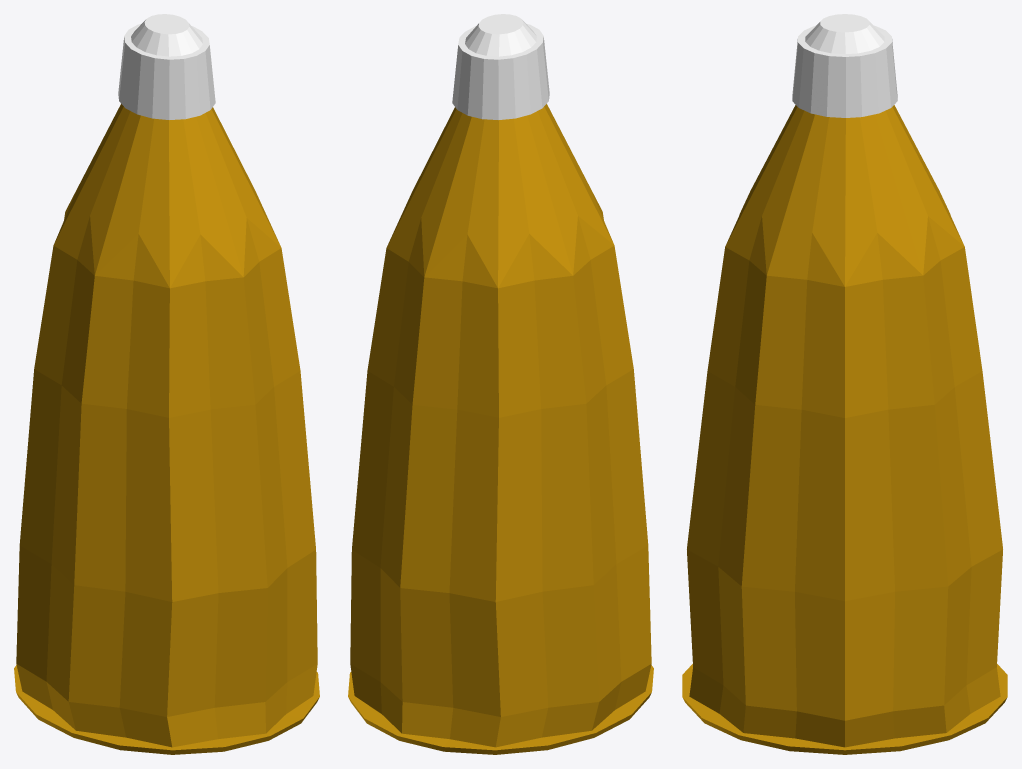
Rendered from Bottle1.fbx.
3 renders of one model, left to right at view 1: azimuth 30°, elevation 25°; view 2: azimuth 150°, elevation 25°; view 3: azimuth 270°, elevation 25°, orthographic.
Parts seen in each view (by area): view 1: Cylinder004; view 2: Cylinder004; view 3: Cylinder004.
Part boxes in pixels (left/top/right/bottom): Cylinder004: left=14, top=14, right=319, bottom=754; Cylinder004: left=348, top=14, right=653, bottom=754; Cylinder004: left=682, top=14, right=1007, bottom=754.
Bounding box in the file's own units: 8.25 × 19.87 × 8.76.
